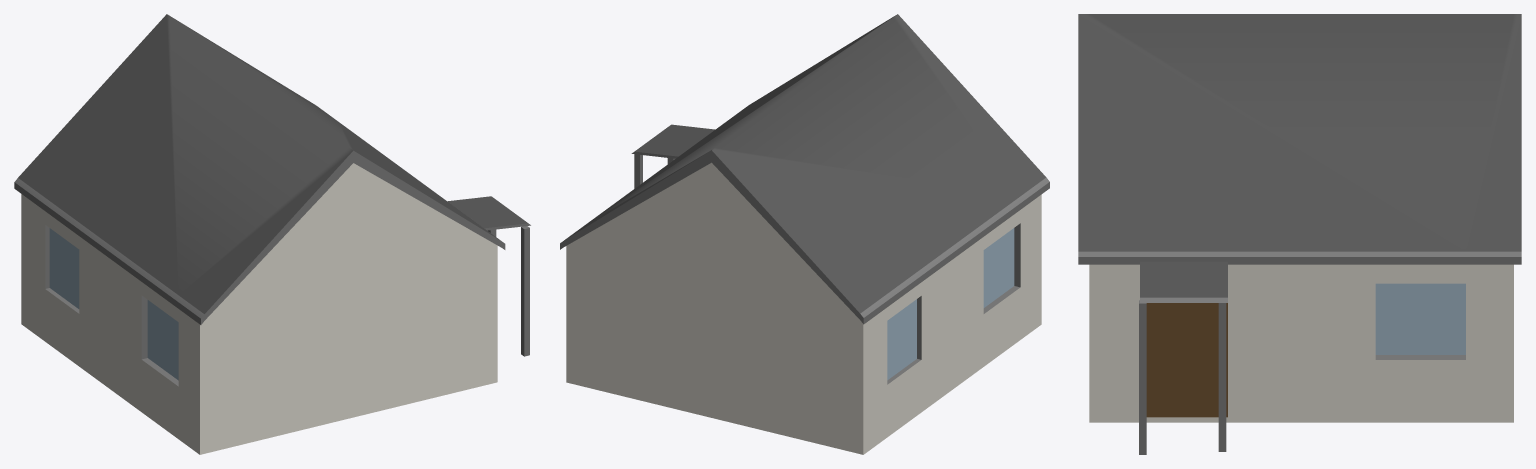
The model's file is House1-3.fbx.
3 renders of one model, left to right at view 1: azimuth 30°, elevation 25°; view 2: azimuth 150°, elevation 25°; view 3: azimuth 270°, elevation 25°, orthographic. The views are drawn at different scales.
Parts seen in each view (by area): view 1: pCube1.002, pCube2.002; view 2: pCube1.002; view 3: pCube1.002, pCube3.002, pCube2.002.
Boxes of the visible parts, x1,y1,x2,y2 form: pCube1.002: (14,14,530,454); pCube2.002: (521,226,529,356); pCube1.002: (560,14,1049,454); pCube1.002: (1078,14,1521,422); pCube3.002: (1218,303,1226,451); pCube2.002: (1139,300,1146,454).
Size of the model in its own units: 10.81 by 7.91 by 9.81.
